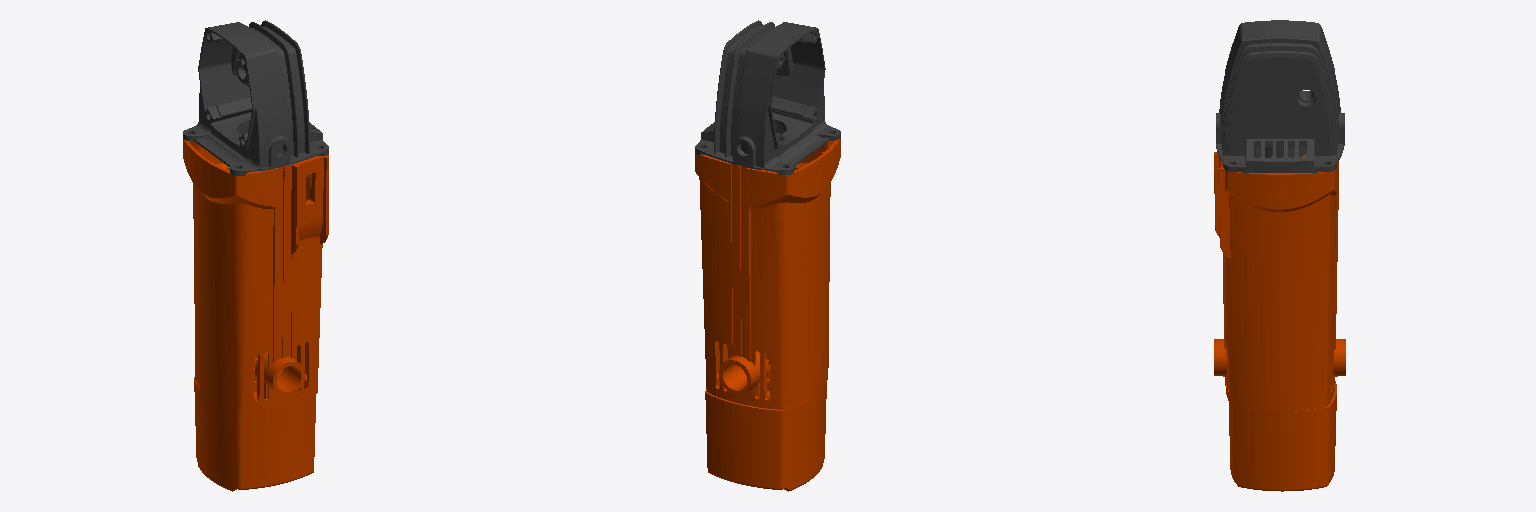
The robot description file, URDF, robot "grinder":
<?xml version="1.0" ?>
<robot name="grinder">
  <link name="baseLink">
    <contact>
      <lateral_friction value="5.0"/>
      <rolling_friction value="0.3"/>
      <contact_cfm value="0.3"/>
      <contact_erp value="0.8"/>
      <damping value="1.0"/>
    </contact>
    <inertial>
      <origin rpy="0 0 0" xyz="0 0 0.0"/>
       <mass value="1"/>
       <inertia ixx="1" ixy="0" ixz="0" iyy="1" iyz="0" izz="5"/>
    </inertial>
    <visual>
      <origin rpy="0 0 0" xyz="30 0 0"/>
      <geometry>
		<mesh filename="mesh/noname_housing01.stl"/>
      </geometry>
       <material name="orange">
        <color rgba="0.8 0.3 0.0 1"/>
      </material>
    </visual>
    <collision>
      <origin rpy="0 0 0" xyz="30 0 0"/>
      <geometry>
        <mesh filename="mesh/noname_housing01.stl"/>
      </geometry>
    </collision>
  </link>
    <link name="housing02">
    <visual>
      <origin rpy="0 0 0" xyz="30 0 0"/>
      <geometry>
		<mesh filename="mesh/noname_housing02.stl"/>
      </geometry>
       <material name="dark">
        <color rgba="0.3 0.3 0.3 1"/>
      </material>
    </visual>
  </link>
  <joint name="l1" type="fixed">
      <parent link="baseLink"/>
      <child link="housing02"/>
      <origin xyz="0 0 0" rpy="0 0 0"/>
  </joint>
</robot>

--- Render facts (derived) ---
Views: 3 orthographic renders of the robot side by side, from view 1: azimuth 30°, elevation 25°; view 2: azimuth 150°, elevation 25°; view 3: azimuth 270°, elevation 25°.
Robot: grinder — 2 links, 1 joints (1 fixed); root link baseLink; default pose: all joints at 0.
Links seen in each view (by area): view 1: baseLink, housing02; view 2: baseLink, housing02; view 3: baseLink, housing02.
Link boxes in pixels (<box>): baseLink: <box>183,139,328,491</box>; housing02: <box>183,20,328,175</box>; baseLink: <box>695,139,840,491</box>; housing02: <box>695,20,840,174</box>; baseLink: <box>1214,152,1345,491</box>; housing02: <box>1216,20,1344,172</box>.
Size in the robot's own frame: 66 by 70.1 by 256 metres.
2 mesh visuals loaded from 2 distinct referenced files (2 binary STL).